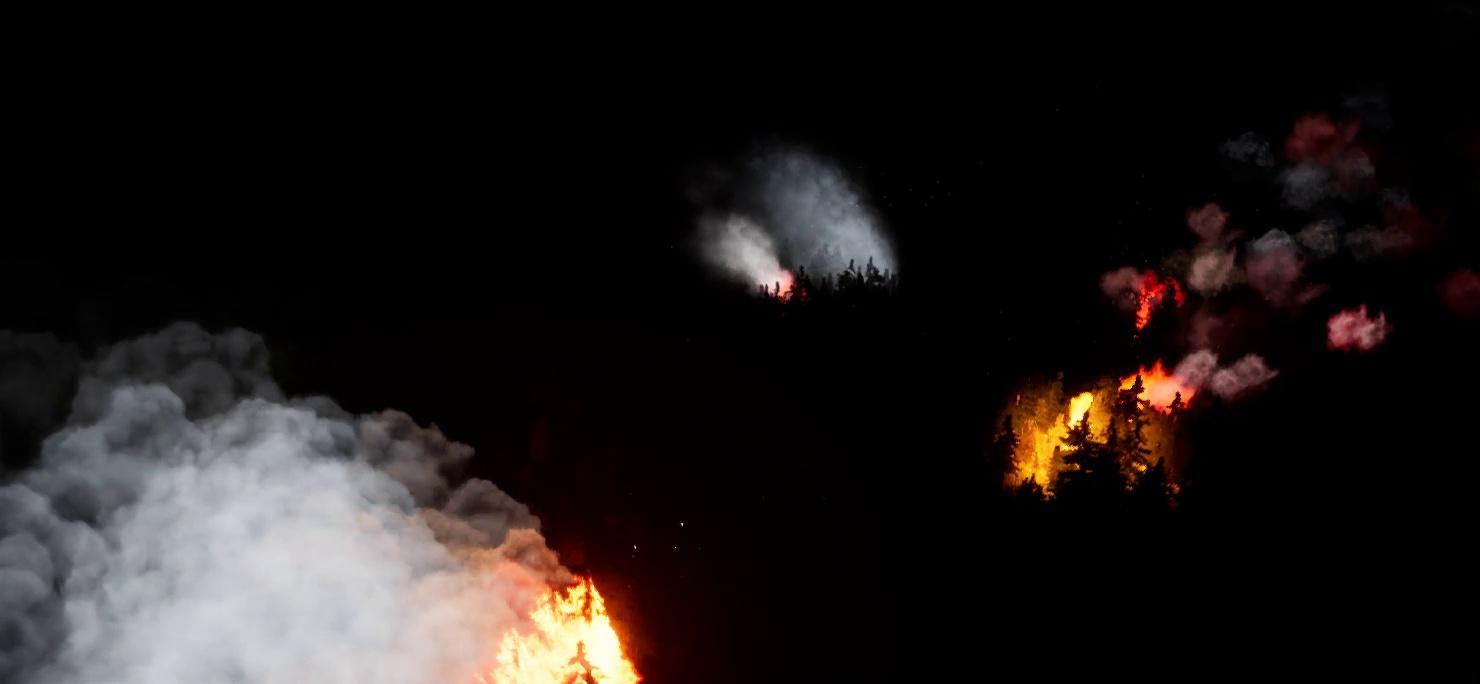fire: (0, 319, 580, 683), (1003, 368, 1180, 504), (493, 573, 652, 683)
smoke: (1113, 101, 1429, 404), (698, 152, 903, 299)
